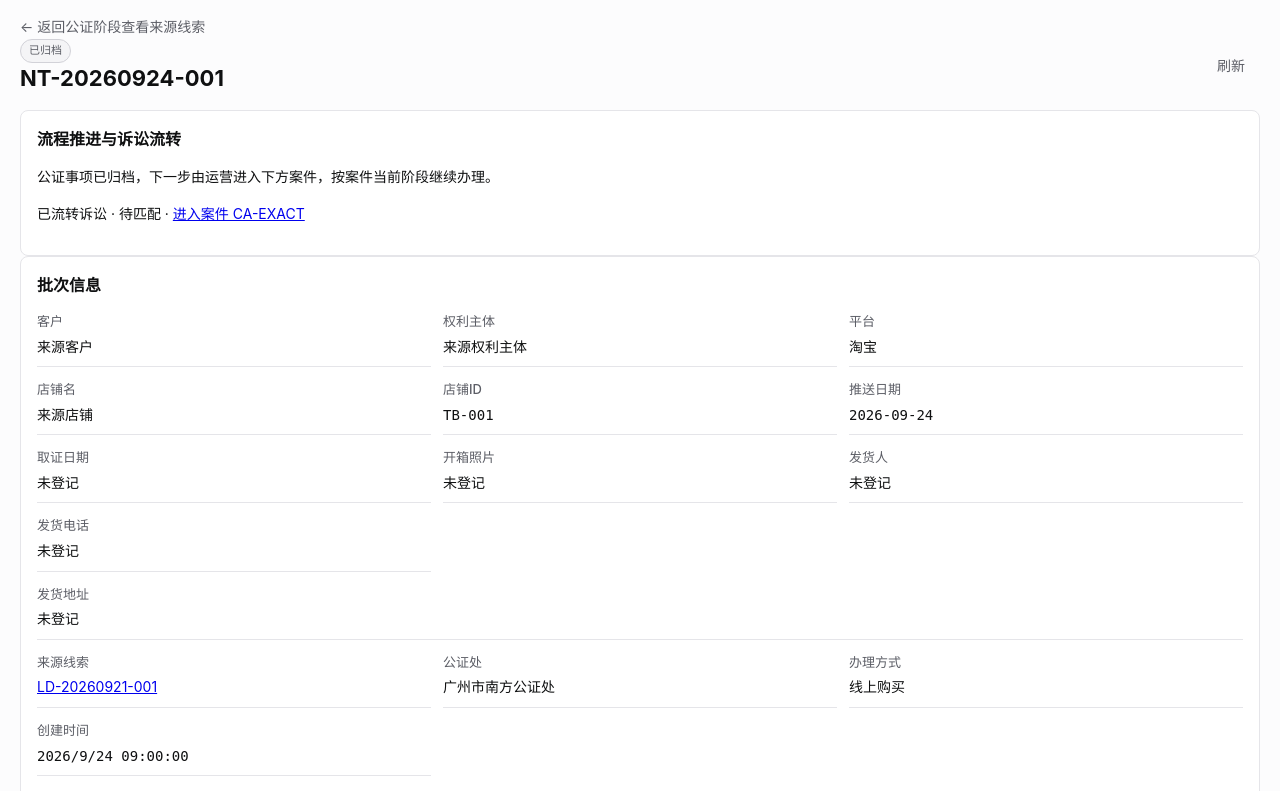
Test: notary workflow handoff guidance › prominently links only the projected exact case and removes it after lost visibility
Check: the text with test id "notary-workflow" shows "下一步由运营", box 37,168 -> 499,185
Click the button with test id "refresh-matter" at (1231, 66), box 1202,50 -> 1260,82
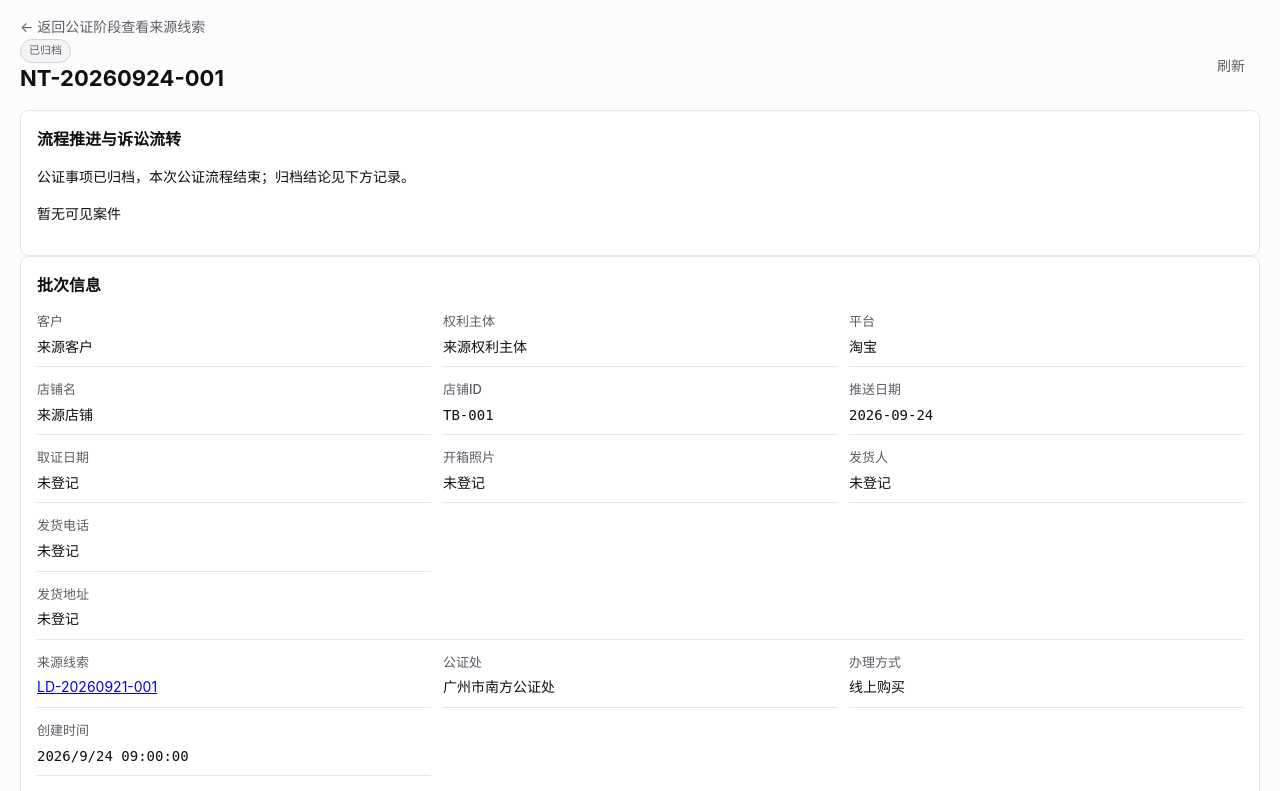
Check: the element with test id "notary-case-summary" shows "暂无可见案件", box 37,205 -> 121,222
